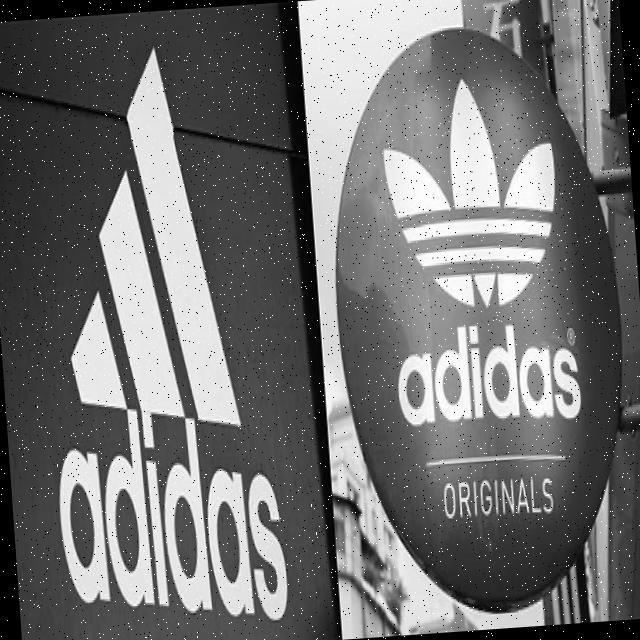Adidas: (370, 64, 572, 330)
